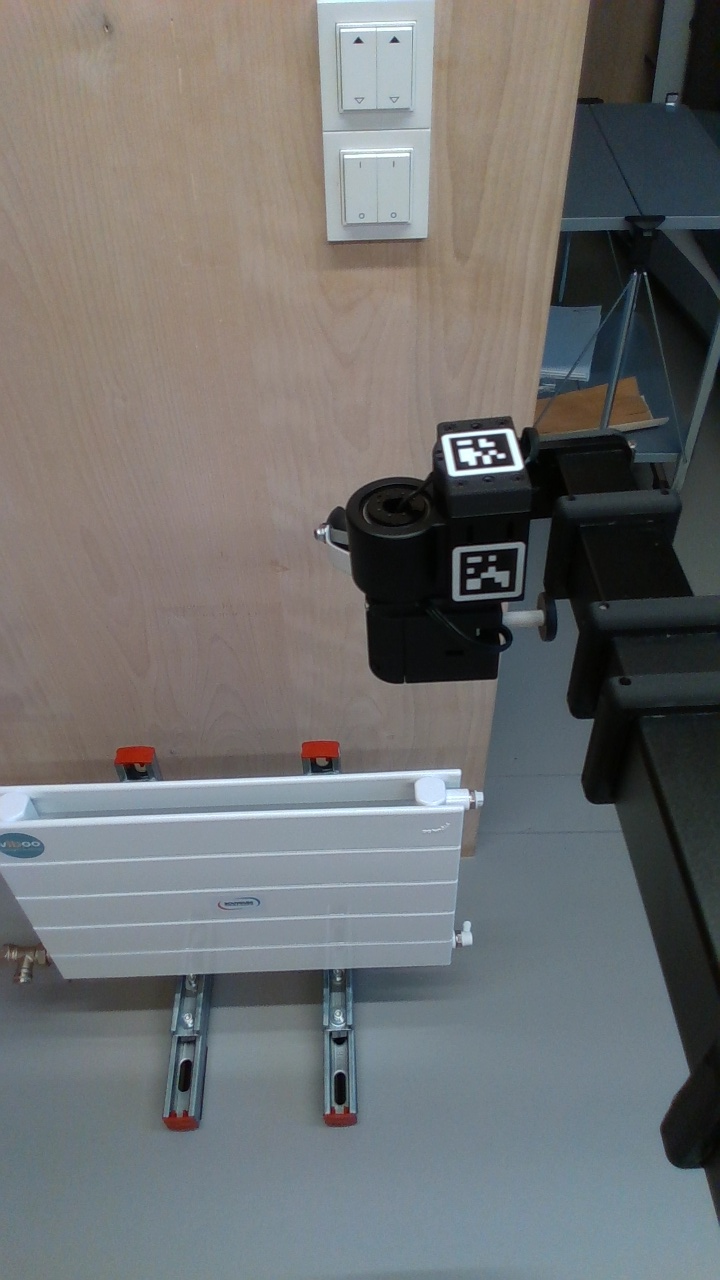Light_Switch: (315, 4, 429, 127), (321, 135, 433, 252)
Radiator: (1, 769, 476, 990)
